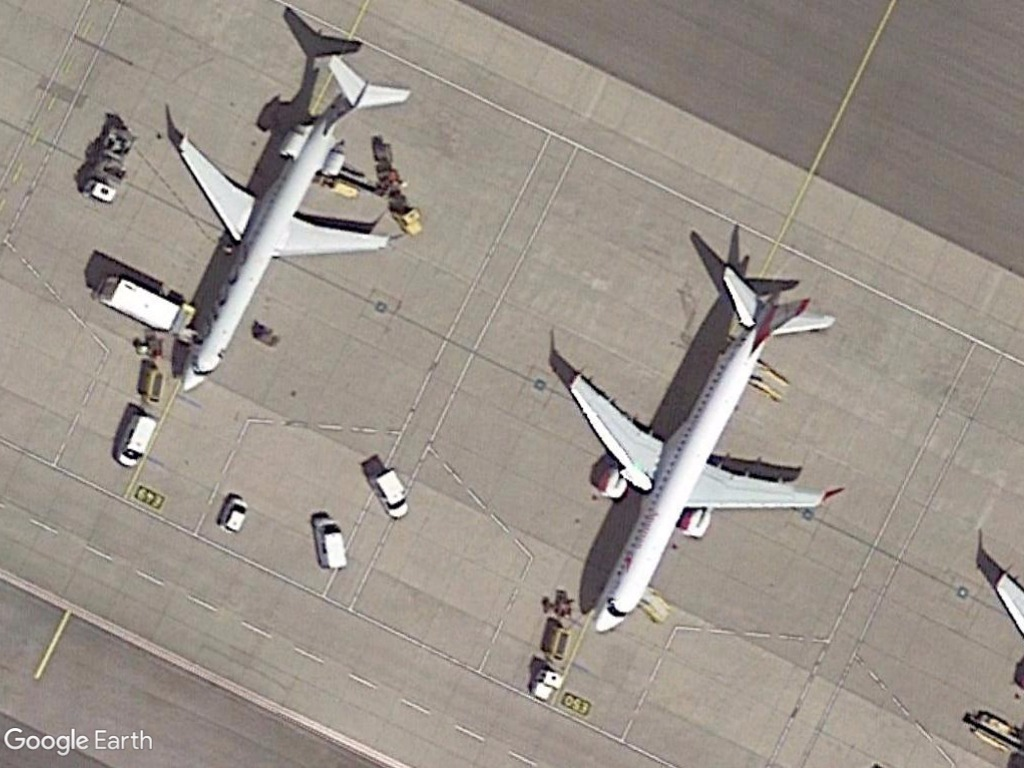airliner: (563, 263, 849, 637)
chartered: (170, 46, 415, 395)
van: (309, 511, 353, 578), (112, 412, 160, 470), (372, 465, 412, 525), (219, 495, 250, 534)
